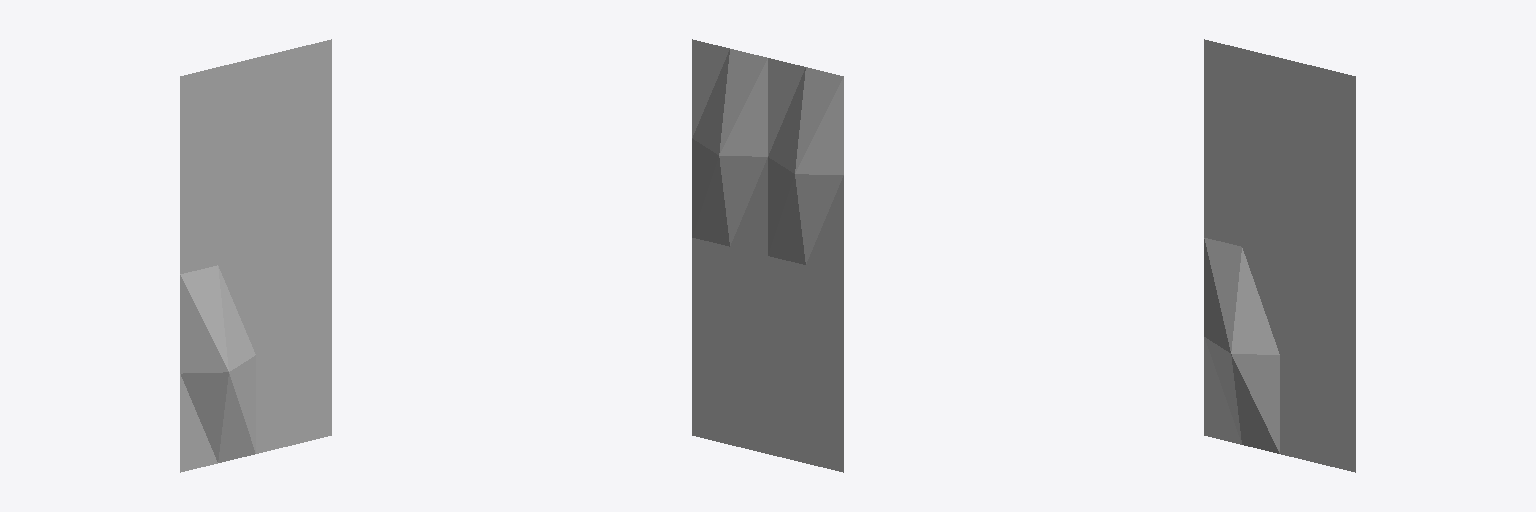
The model's file is Battery-Type-0-Debris-Panel-1.obj.
3 views of the same model, side by side, from view 1: azimuth 30°, elevation 25°; view 2: azimuth 150°, elevation 25°; view 3: azimuth 330°, elevation 25° (orthographic).
Parts seen in each view (by area): view 1: Battery-Type-0-Debris-Panel-1; view 2: Battery-Type-0-Debris-Panel-1; view 3: Battery-Type-0-Debris-Panel-1.
Part boxes in pixels (x1,y1,x2,y2): Battery-Type-0-Debris-Panel-1: (180,39,331,472); Battery-Type-0-Debris-Panel-1: (692,39,843,472); Battery-Type-0-Debris-Panel-1: (1204,39,1355,472).
Bounding box in the file's own units: 0.4 × 1 × 0.1.